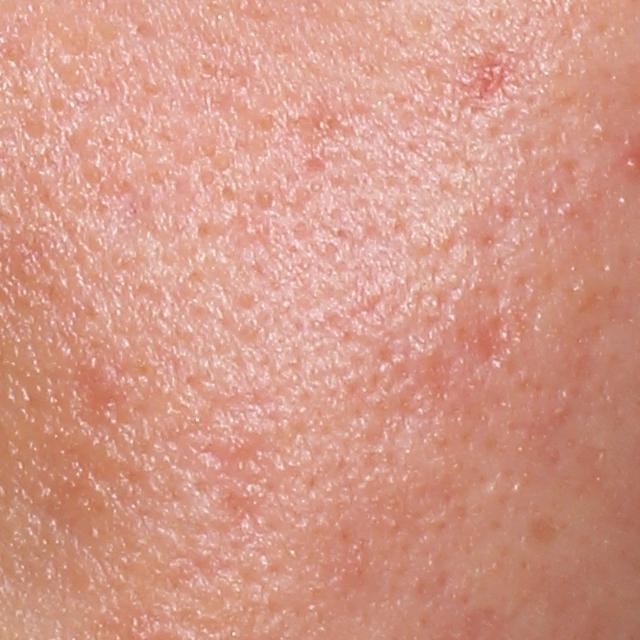atrophic_scar: (473, 320, 509, 368)
comedo: (248, 187, 275, 211)
